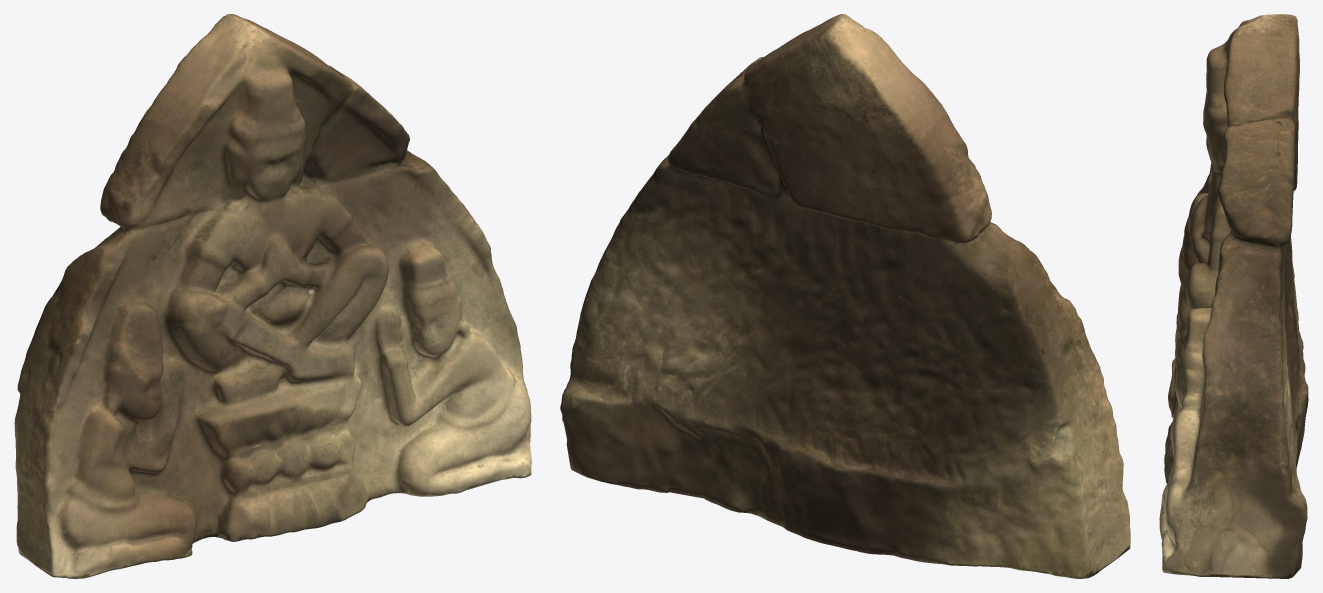
Rendered from MysonMuseum_warehousephudieu2_final.glb.
3 renders of one model, left to right at view 1: azimuth 30°, elevation 25°; view 2: azimuth 150°, elevation 25°; view 3: azimuth 270°, elevation 25°, orthographic. The views are drawn at different scales.
Bounding box in the file's own units: 0.7031 × 0.6791 × 0.1992.
Materials: 1 (1 with a texture image).
